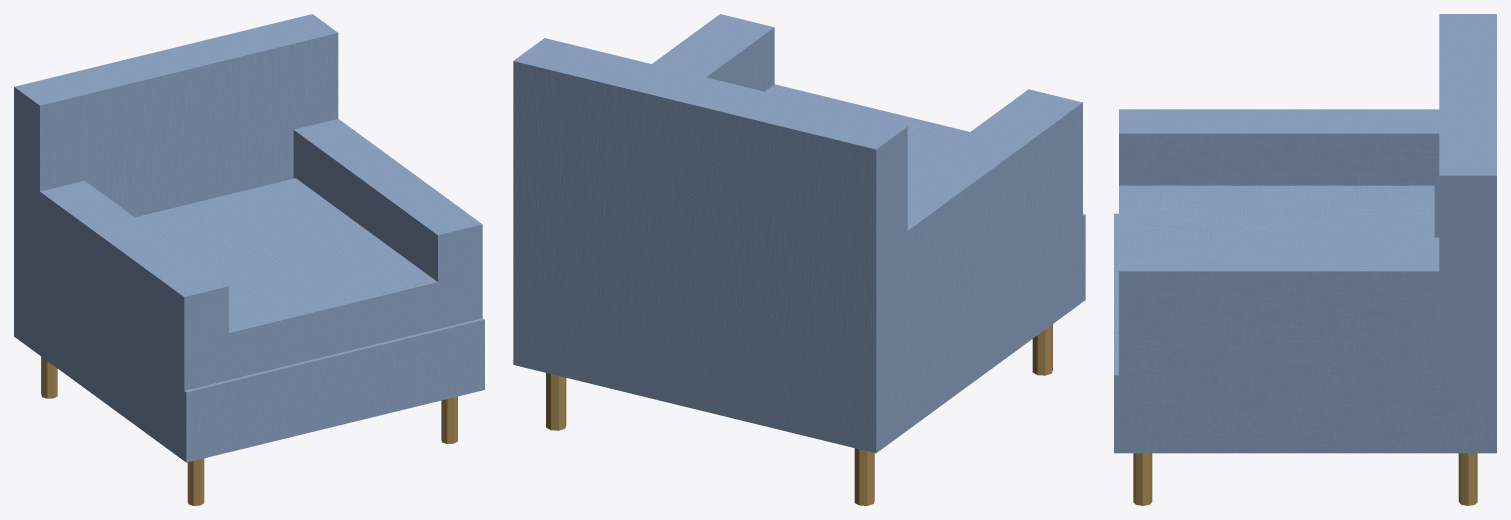
File: poltrona_marsala.glb
3 renders of one model, left to right at view 1: azimuth 30°, elevation 25°; view 2: azimuth 150°, elevation 25°; view 3: azimuth 270°, elevation 25°, orthographic. The views are drawn at different scales.
Visible parts, largest first — view 1: poltrona_marsala; view 2: poltrona_marsala; view 3: poltrona_marsala.
Part boxes in pixels (<box>): poltrona_marsala: <box>14,14,484,505</box>; poltrona_marsala: <box>513,14,1085,505</box>; poltrona_marsala: <box>1114,14,1496,505</box>.
Size of the model in its own units: 0.8 by 0.78 by 0.8.
2 materials, 1 textured.
